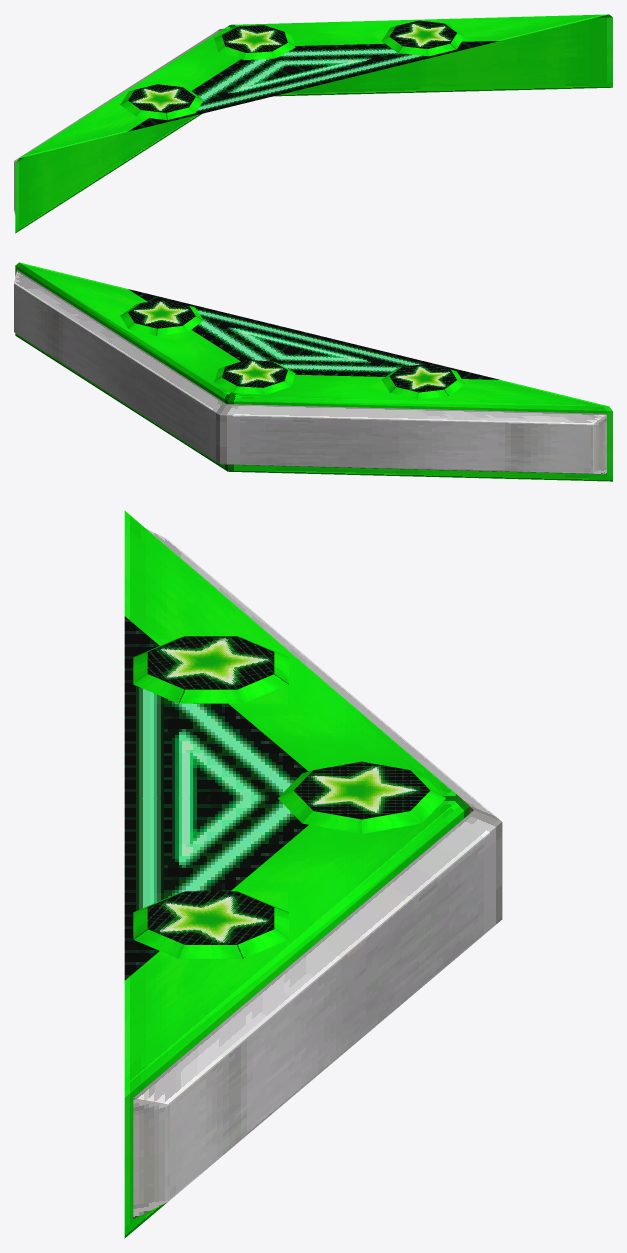
The model's file is bumper.obj.
The picture shows the model from 3 angles, top to bottom: view 1: azimuth 30°, elevation 25°; view 2: azimuth 150°, elevation 25°; view 3: azimuth 270°, elevation 25°; orthographic projection. The views are drawn at different scales.
Parts seen in each view (by area): view 1: Object_1, obj1; view 2: Object_1, obj1, obj2; view 3: Object_1, obj2, obj1.
Boxes of the visible parts, x1,y1,x2,y2 form: Object_1: (15, 14, 612, 233); obj1: (14, 28, 223, 214); Object_1: (15, 262, 612, 481); obj1: (220, 404, 606, 474); obj2: (14, 270, 226, 463); Object_1: (124, 510, 469, 1238); obj2: (133, 810, 502, 1218); obj1: (147, 529, 501, 821).
Bounding box in the file's own units: 80 × 10 × 21.87.
